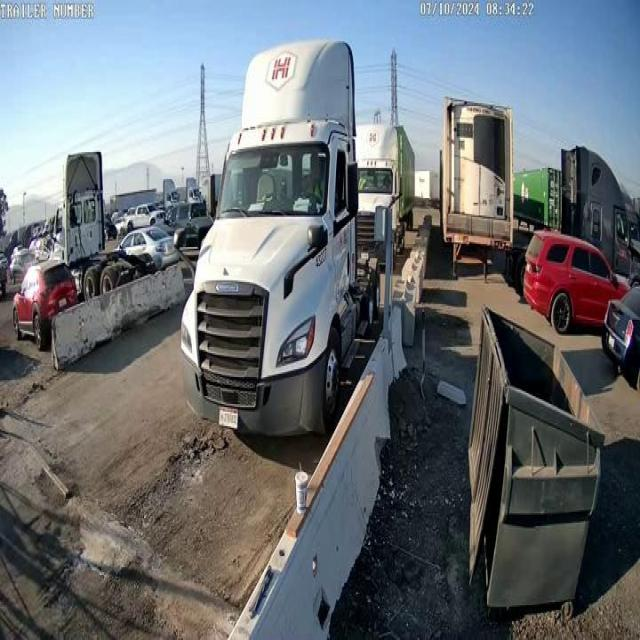TRUCK_OUT: (179, 37, 383, 440)
